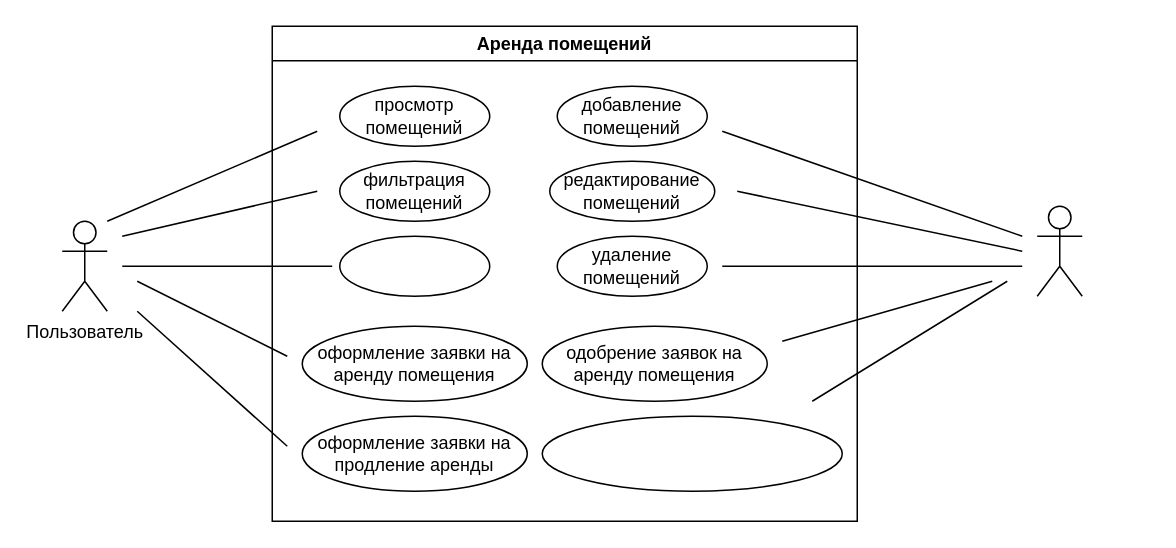
Image size: 1176x548. Some labels were removed from this diagram. The shapes that lost their labels are listed below. From the top down, each one's centre as x and y in pixels, then its label:
At pixel 414 265: "поиск помещений".
At pixel 1059 250: "Администратор сайта".
At pixel 691 453: "одобрение заявок на продление аренды помещения".
